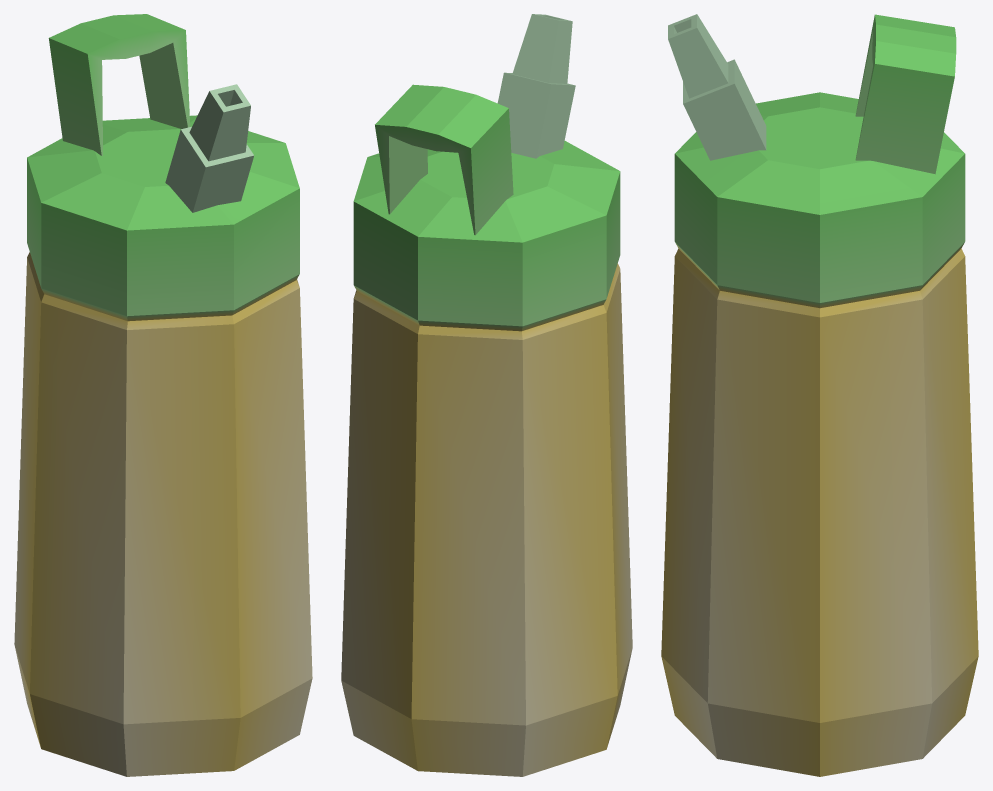
File: BottleModel.fbx
The picture shows the model from 3 angles, left to right: view 1: azimuth 30°, elevation 25°; view 2: azimuth 150°, elevation 25°; view 3: azimuth 270°, elevation 25°; orthographic projection. The views are drawn at different scales.
Visible parts, largest first — view 1: Cylinder; view 2: Cylinder; view 3: Cylinder.
Part boxes in pixels (box(x1,y1,x2,y2)): Cylinder: box(14, 14, 312, 776); Cylinder: box(341, 14, 632, 776); Cylinder: box(661, 14, 978, 776).
Size of the model in its own units: 20.06 by 48.46 by 20.06.
